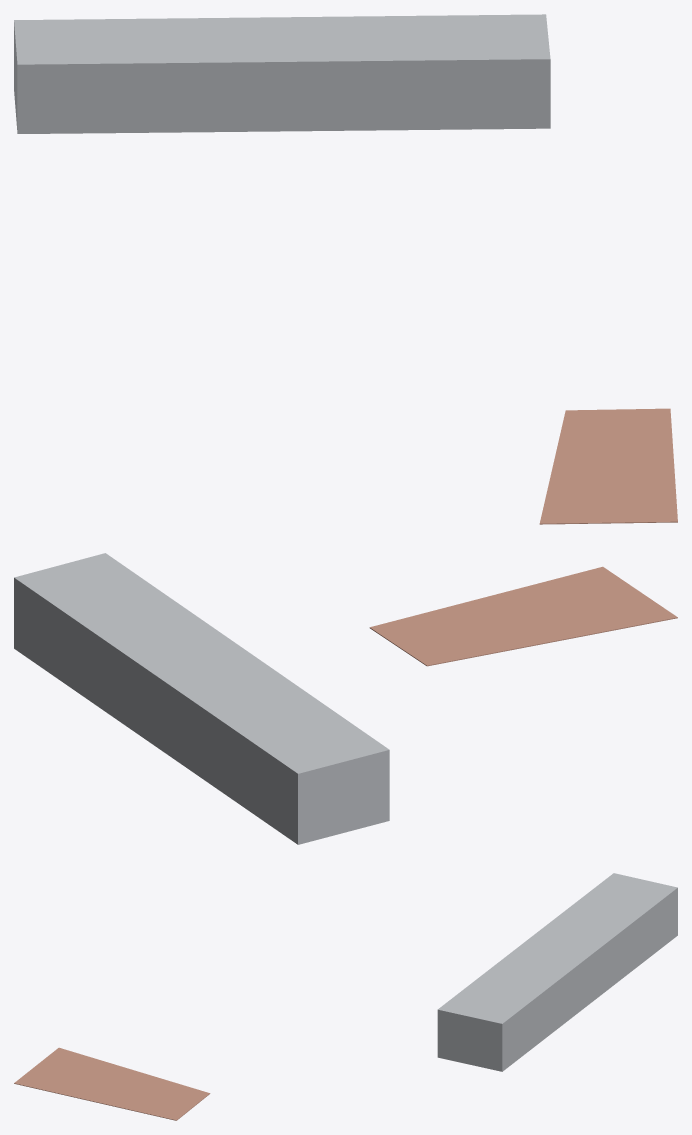
Rendered from site_objects.glb.
3 renders of one model, top to bottom at view 1: azimuth 30°, elevation 25°; view 2: azimuth 150°, elevation 25°; view 3: azimuth 270°, elevation 25°, orthographic. The views are drawn at different scales.
Visible parts, largest first — view 1: corridor-tower75-west, bridge-library-tower75; view 2: corridor-tower75-west, bridge-library-tower75; view 3: corridor-tower75-west, bridge-library-tower75.
Boxes of the visible parts, <box> form: corridor-tower75-west: <box>14,14,550,133</box>; bridge-library-tower75: <box>539,408,677,524</box>; corridor-tower75-west: <box>14,553,389,844</box>; bridge-library-tower75: <box>369,566,677,666</box>; corridor-tower75-west: <box>437,873,677,1071</box>; bridge-library-tower75: <box>14,1047,210,1120</box>.
Size of the model in its own units: 29.48 by 12.26 by 54.83.
